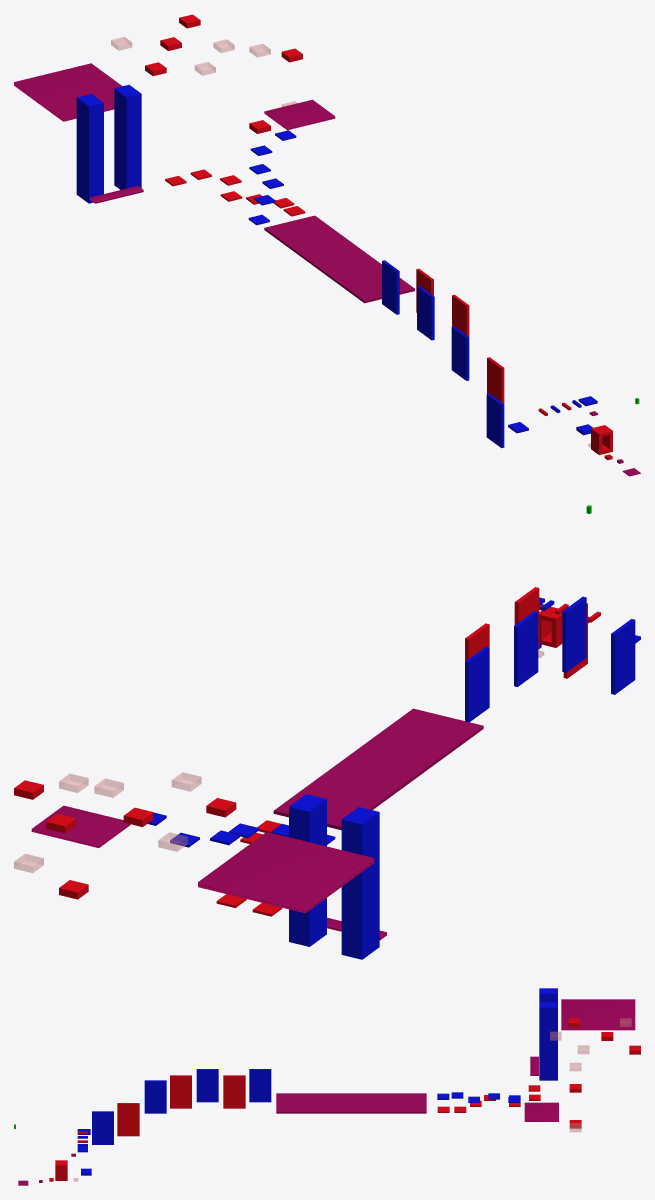
The model's file is level.design.fbx.
3 views of the same model, one above another, from view 1: azimuth 30°, elevation 25°; view 2: azimuth 150°, elevation 25°; view 3: azimuth 270°, elevation 25° (orthographic). The views are drawn at different scales.
Parts seen in each view (by area): view 1: Cube.021, Cube.039, Cube.037, Cube.038, Cube.035, Cube.014, Cube.016, Cube.019, Cube.018, Cube.015; view 2: Cube.021, Cube.039, Cube.037, Cube.038, Cube.035, Cube.016, Cube.018, Cube.014, Cube.019, Cube.004, Cube.017; view 3: Cube.021, Cube.039, Cube.038, Cube.015, Cube.016, Cube.020, Cube.018, Cube.019, Cube.014, Cube.017, Cube.035.
Part boxes in pixels (x1=…): Cube.021: x1=264, y1=215, x2=414, y2=303; Cube.039: x1=14, y1=63, x2=122, y2=121; Cube.037: x1=76, y1=94, x2=103, y2=203; Cube.038: x1=114, y1=85, x2=141, y2=189; Cube.035: x1=264, y1=99, x2=335, y2=130; Cube.014: x1=486, y1=393, x2=504, y2=448; Cube.016: x1=451, y1=326, x2=469, y2=380; Cube.019: x1=382, y1=260, x2=399, y2=314; Cube.018: x1=417, y1=286, x2=434, y2=340; Cube.015: x1=487, y1=357, x2=504, y2=403; Cube.021: x1=273, y1=708, x2=483, y2=830; Cube.039: x1=198, y1=832, x2=374, y2=913; Cube.037: x1=341, y1=807, x2=379, y2=959; Cube.038: x1=289, y1=794, x2=326, y2=946; Cube.035: x1=31, y1=805, x2=130, y2=847; Cube.016: x1=562, y1=596, x2=586, y2=672; Cube.018: x1=514, y1=611, x2=538, y2=686; Cube.014: x1=611, y1=619, x2=635, y2=694; Cube.019: x1=465, y1=646, x2=489, y2=722; Cube.004: x1=539, y1=607, x2=562, y2=647; Cube.017: x1=514, y1=587, x2=539, y2=648; Cube.021: x1=276, y1=1093, x2=426, y2=1113; Cube.039: x1=561, y1=999, x2=635, y2=1030; Cube.038: x1=539, y1=1002, x2=557, y2=1080; Cube.015: x1=117, y1=1103, x2=139, y2=1136; Cube.016: x1=144, y1=1080, x2=166, y2=1113; Cube.020: x1=223, y1=1075, x2=245, y2=1108; Cube.018: x1=196, y1=1069, x2=218, y2=1102; Cube.019: x1=249, y1=1069, x2=271, y2=1102; Cube.014: x1=92, y1=1111, x2=113, y2=1144; Cube.017: x1=170, y1=1075, x2=191, y2=1108; Cube.035: x1=524, y1=1102, x2=558, y2=1121.
Bounding box in the file's own units: 34652 × 21918 × 101309.
